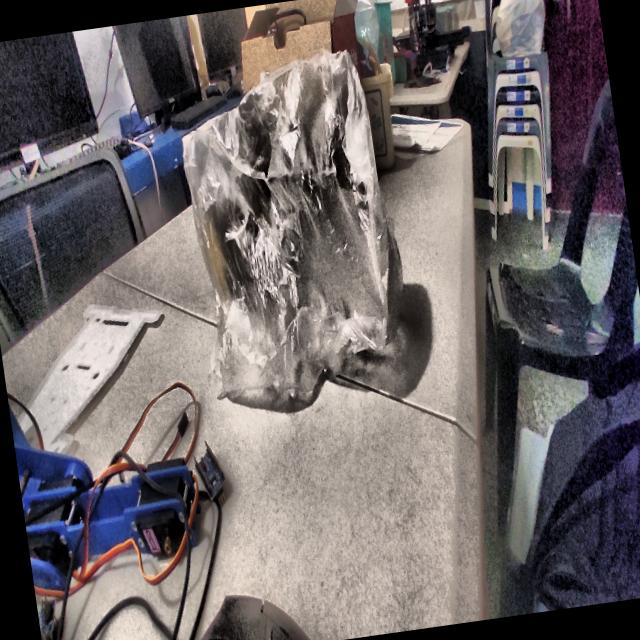plastic bag: (184, 52, 403, 411)
